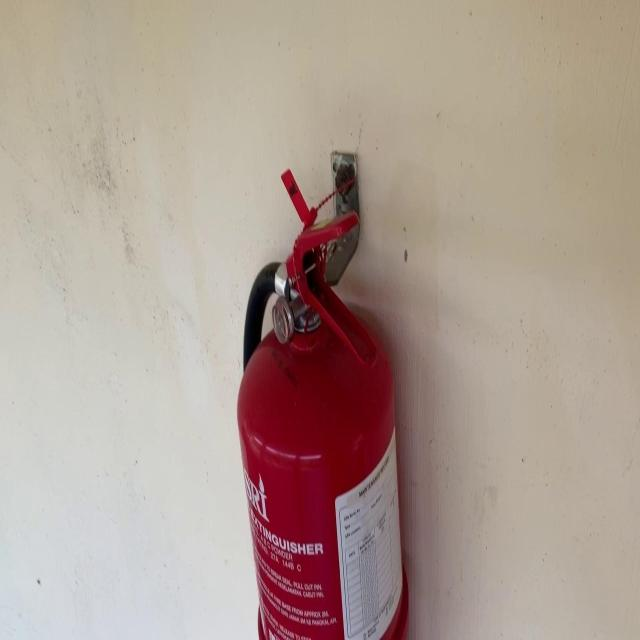fire_extinguisher: (234, 160, 411, 639)
